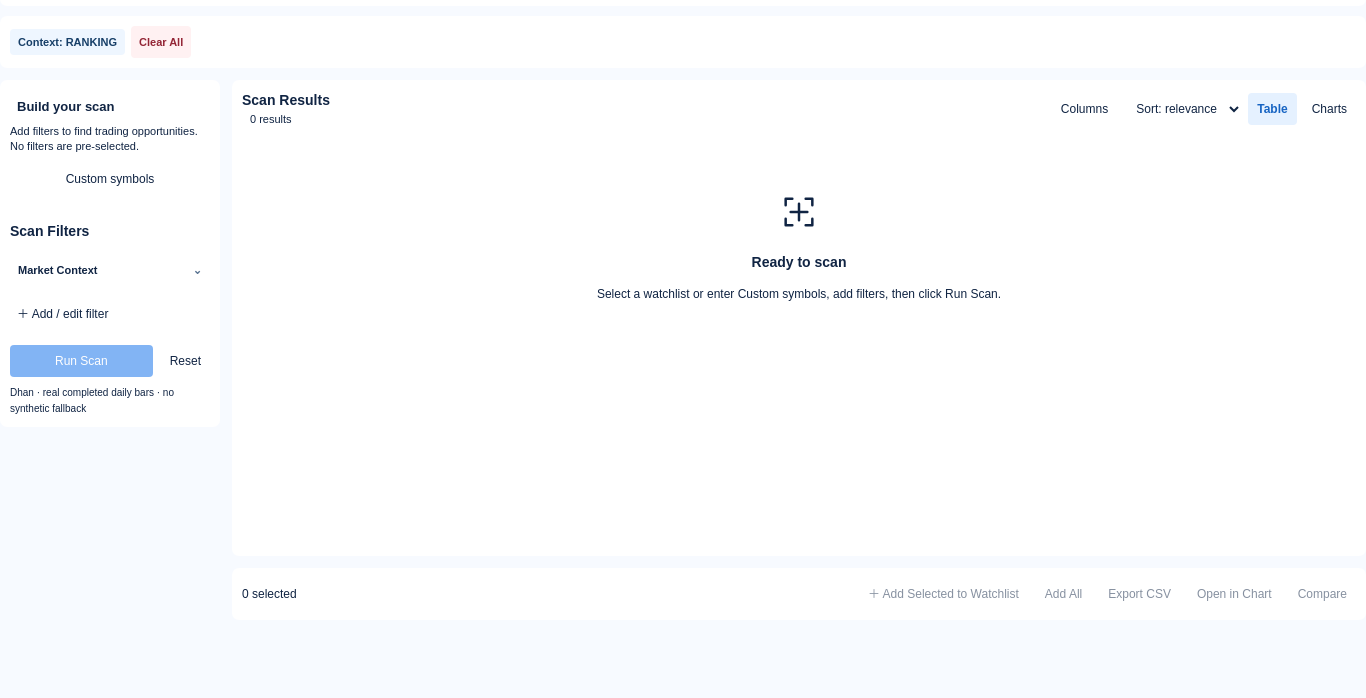
Test: evaluated non-match is distinct from an acquisition failure
Click the heading "＋ Add / edit filter": click(63, 314) [17, 307, 108, 321]
(page scrolled)
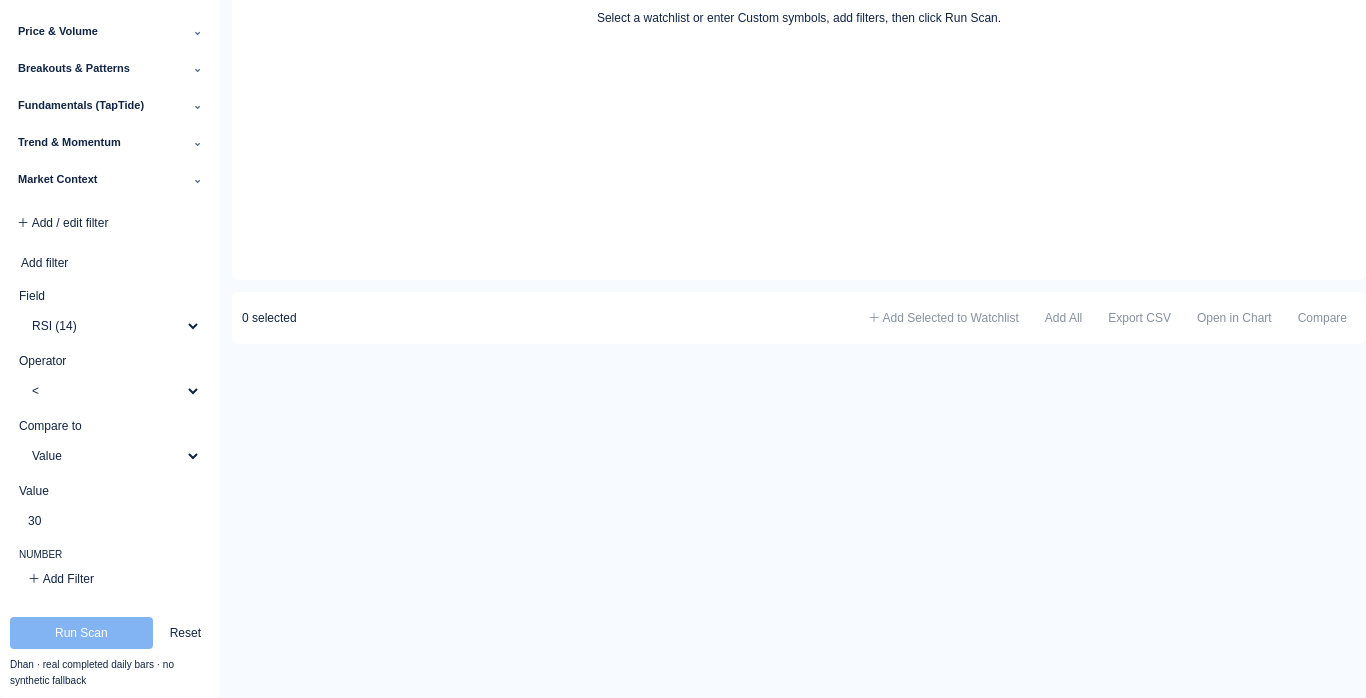
Click the button "＋ Add Filter": click(61, 579) [19, 563, 103, 595]
(page scrolled)
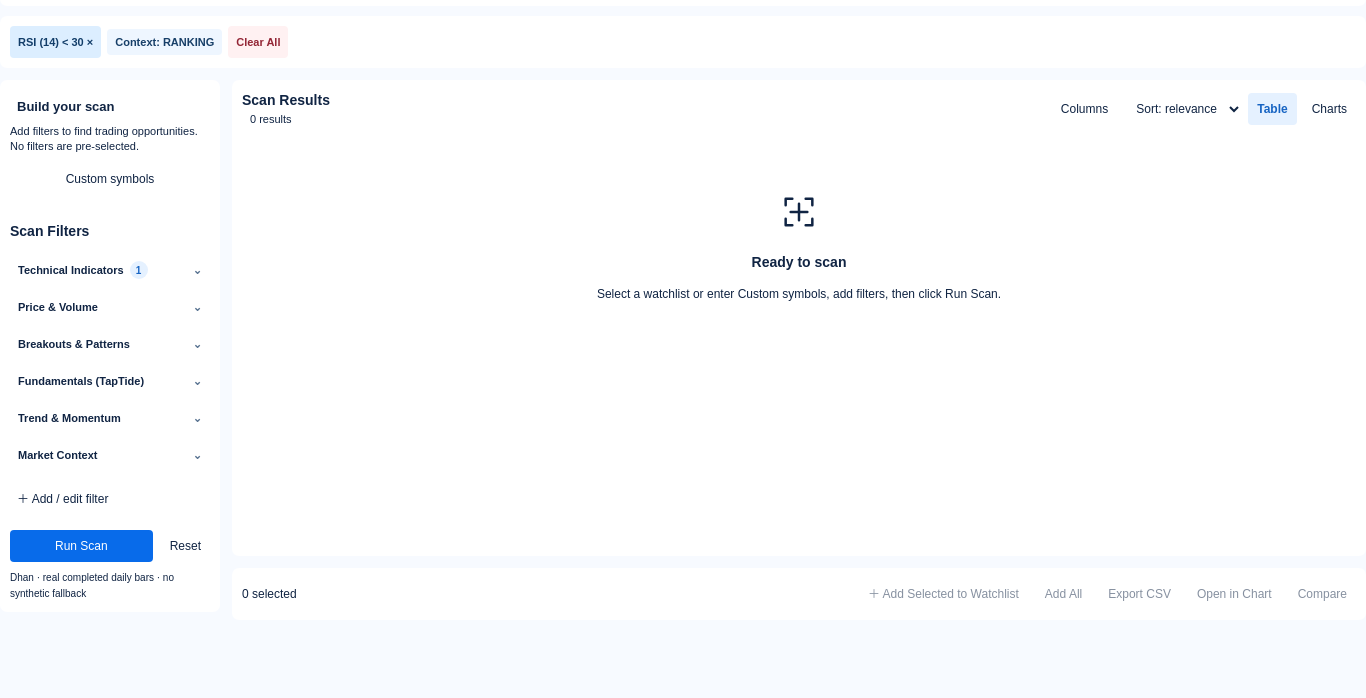
Click the button "Custom symbols": click(110, 179) [10, 163, 210, 195]
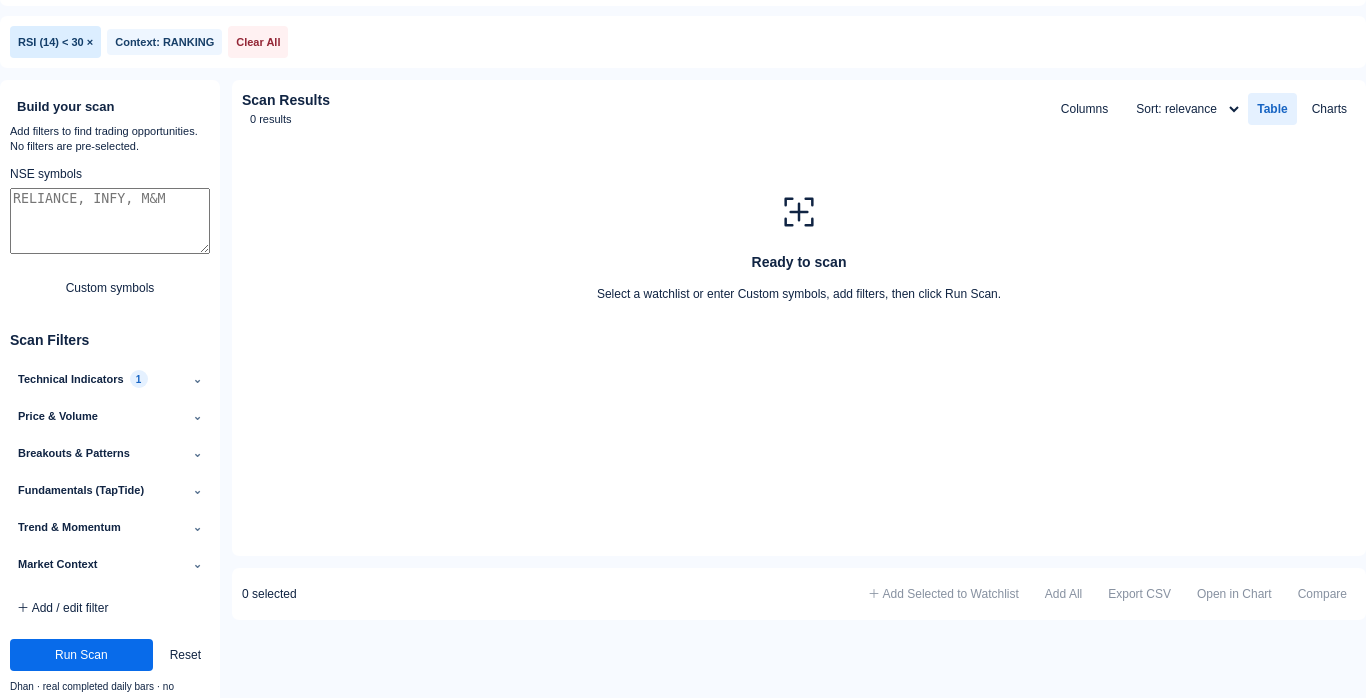
In the text box labelled "NSE symbols": (110, 221) [10, 188, 210, 254], type "INFY"
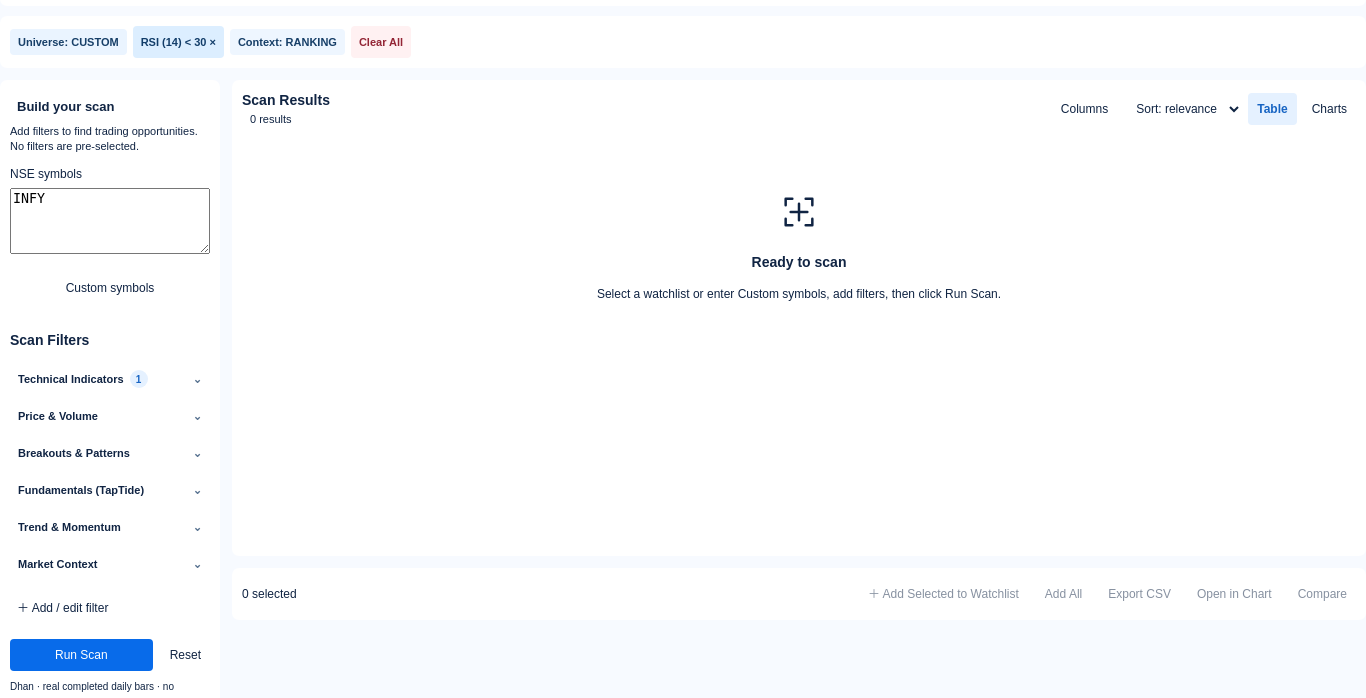
Click the button "Run Scan": click(81, 655) [10, 639, 153, 671]
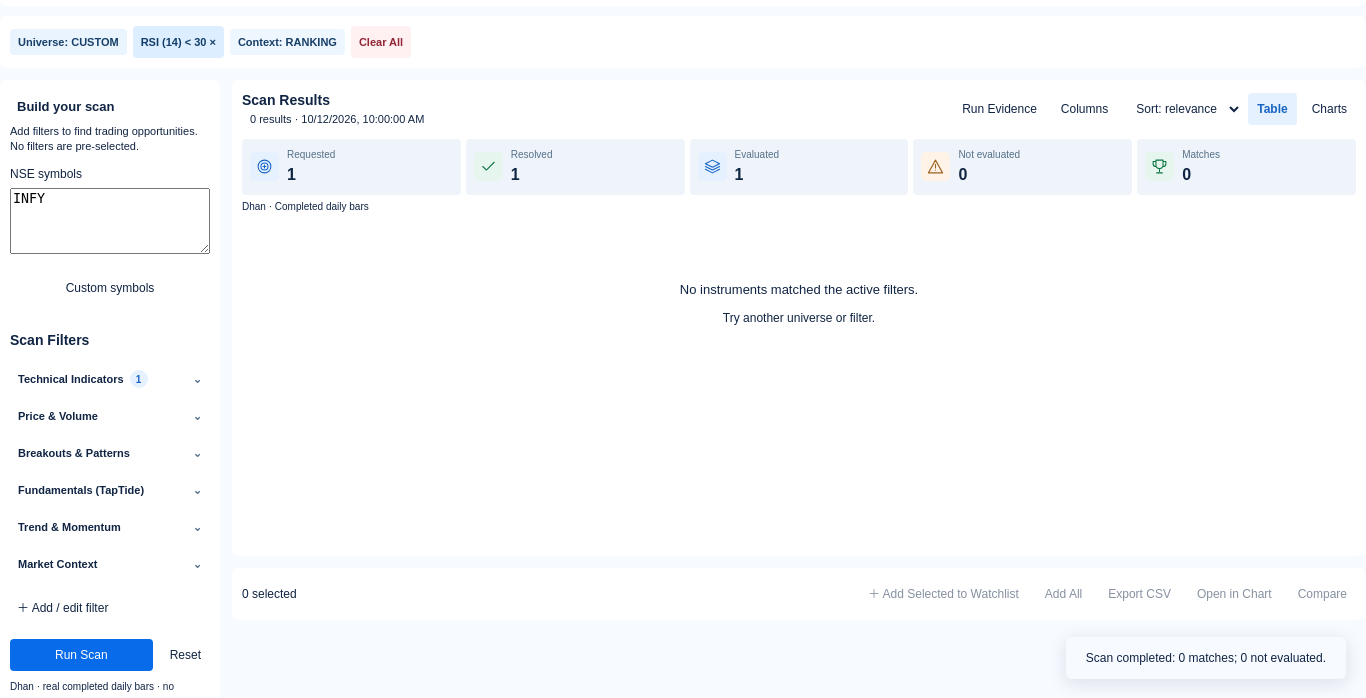
Expected: the heading "No instruments matched the active filters." is shown, [680, 282, 918, 297]
Click the button "Run Evidence": click(999, 109) [953, 93, 1046, 125]
(page scrolled)
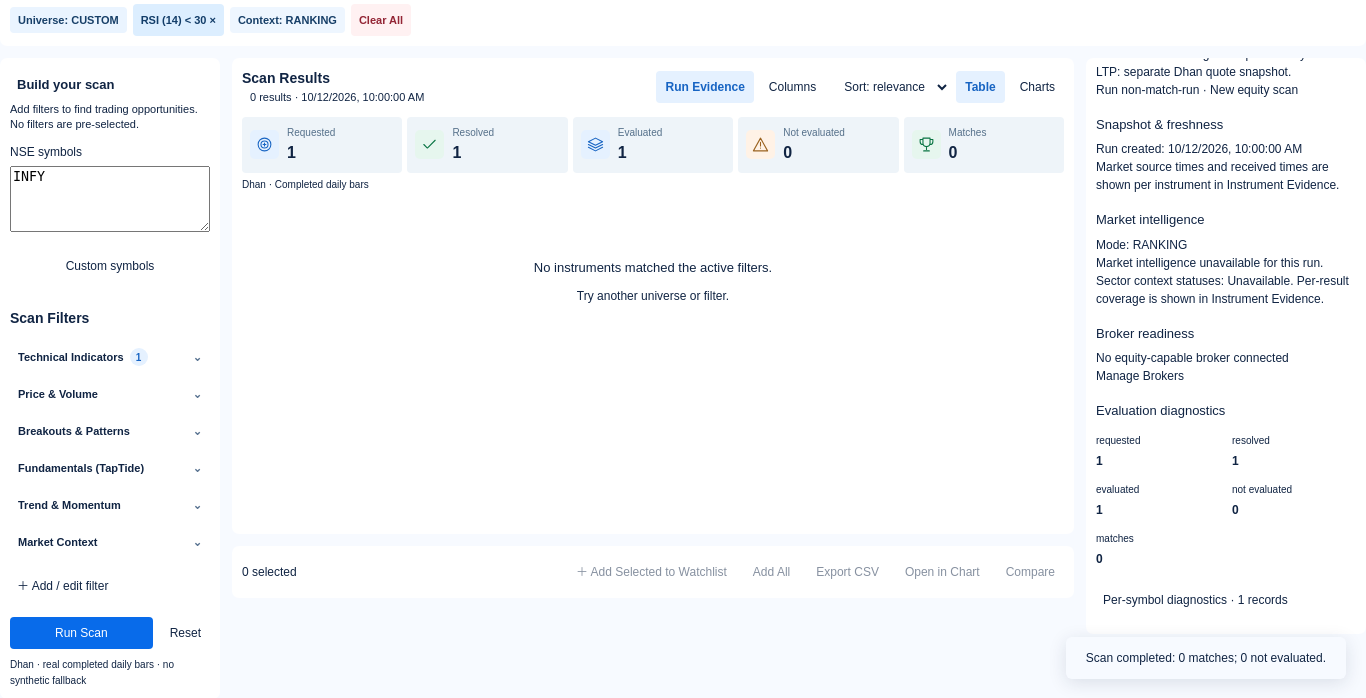
Expected: the heading "Per-symbol diagnostics · 1 records" is shown, [1103, 592, 1288, 606]
